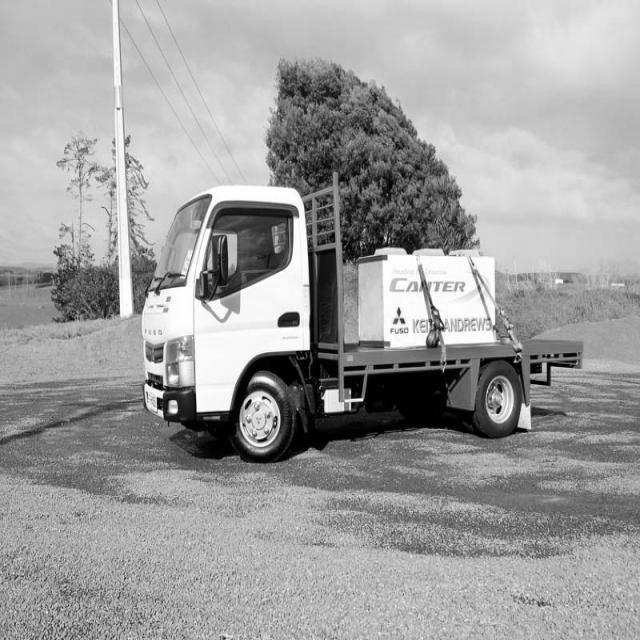truck: (132, 170, 345, 464)
